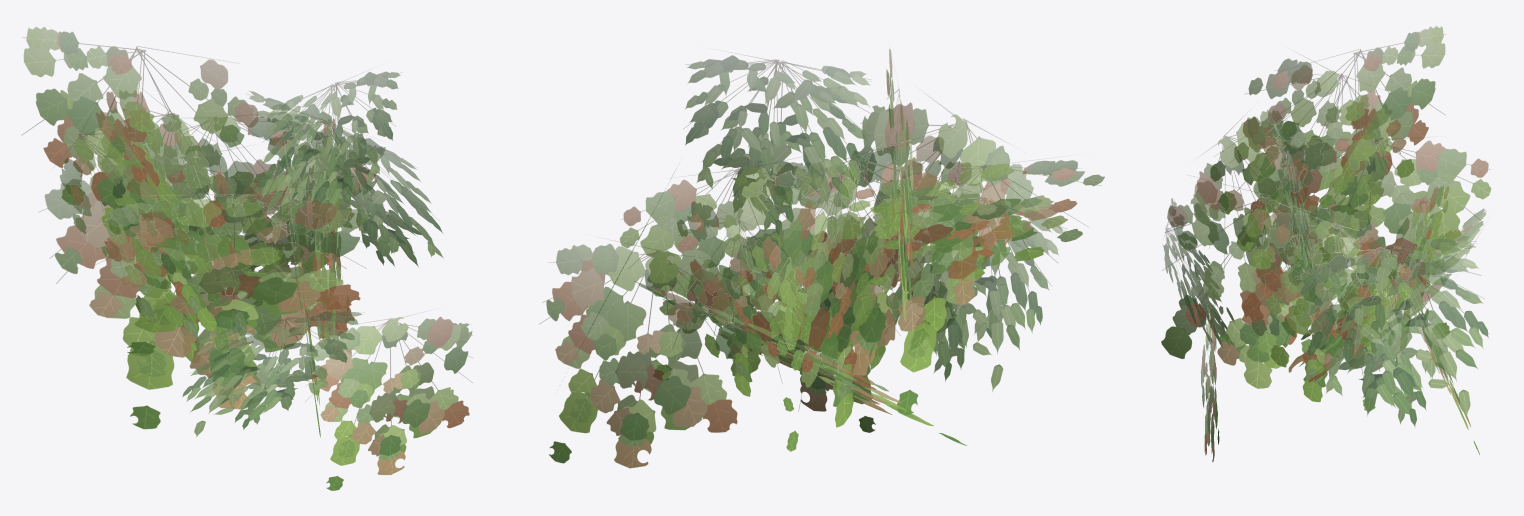
Rendered from bush_a.glb.
3 renders of one model, left to right at view 1: azimuth 30°, elevation 25°; view 2: azimuth 150°, elevation 25°; view 3: azimuth 270°, elevation 25°, orthographic. The views are drawn at different scales.
Visible parts, largest first — view 1: bush_a; view 2: bush_a; view 3: bush_a.
Boxes of the visible parts, box(x1,y1,x2,y2) form: bush_a: box(22, 27, 472, 490); bush_a: box(540, 49, 1104, 468); bush_a: box(1161, 26, 1490, 462).
Bounding box in the file's own units: 1.59 × 1.36 × 1.24.
Materials: 1 (1 with a texture image).
